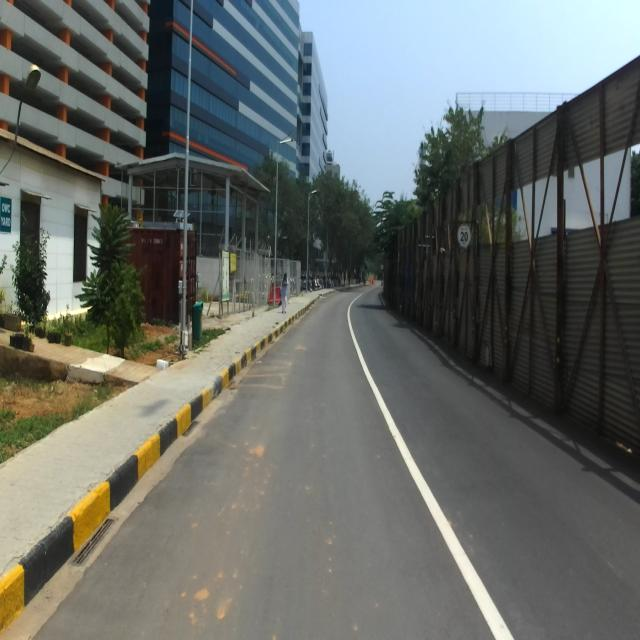sign board ahead at: (456, 212, 474, 258)
